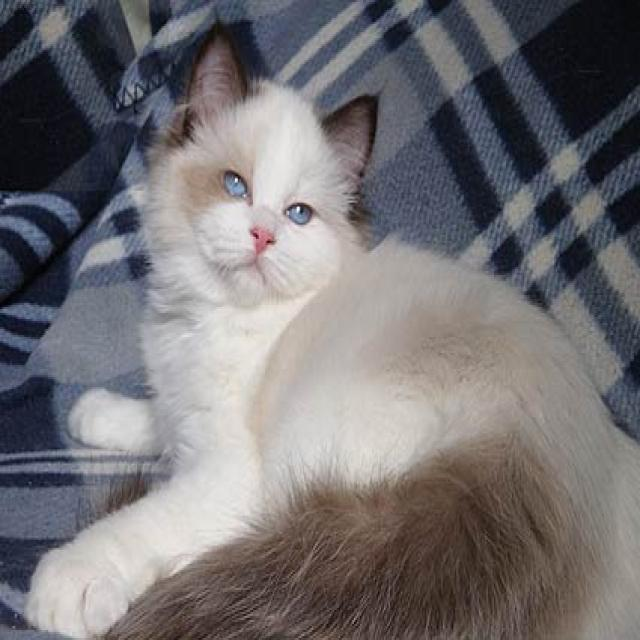Ragdoll: (179, 20, 375, 299)
